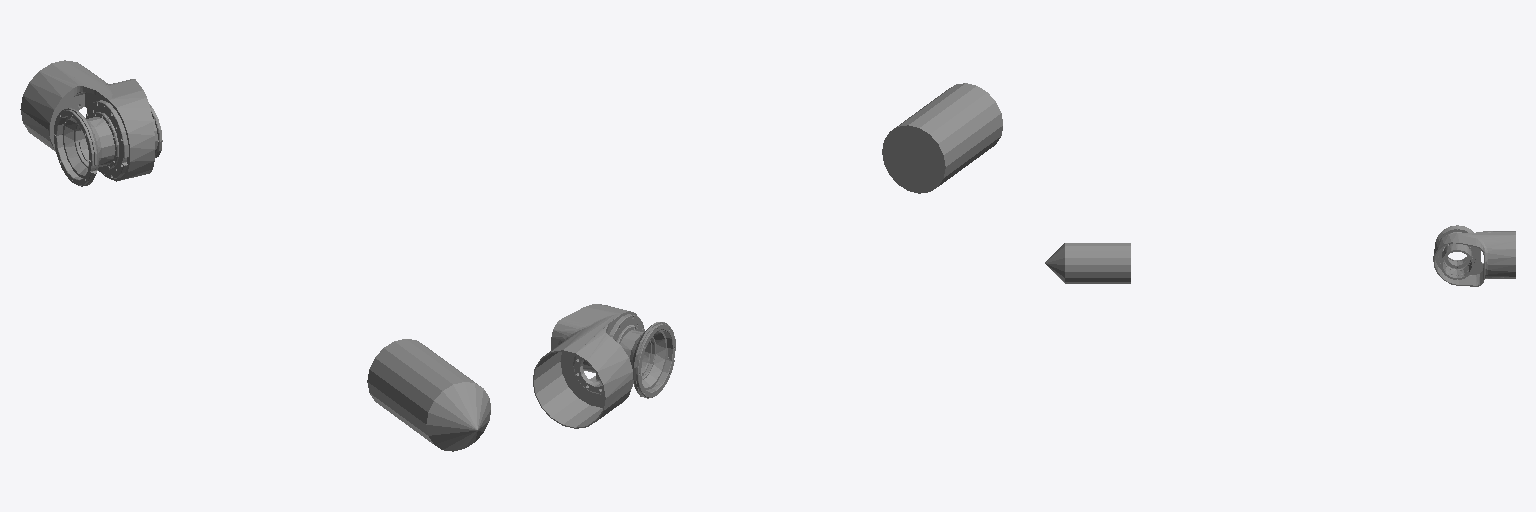
URDF robot description (repair):
<?xml version="1.0" ?>
<!-- =================================================================================== -->
<!-- |    This document was autogenerated by xacro from repair_single_arm.urdf.xacro   | -->
<!-- |    EDITING THIS FILE BY HAND IS NOT RECOMMENDED                                 | -->
<!-- =================================================================================== -->
<robot name="repair">
  <!-- color -->
  <material name="darkblue">
    <color rgba="0.0 0.3 0.9 1"/>
  </material>
  <material name="dark">
    <color rgba="0.6 0.6 0.6 1"/>
  </material>
  <link name="world"/>
  <link name="base_link">
</link>
  <joint name="base_joint" type="fixed">
    <origin rpy="0 0 0" xyz="0 0 0.5"/>
    <parent link="world"/>
    <child link="base_link"/>
  </joint>
  <link name="r_arm_mount_frame">
</link>
  <joint name="r_arm_mount_joint" type="fixed">
    <origin rpy="1.57079632679 3.14159265359 0" xyz="0 -0.2 0"/>
    <parent link="base_link"/>
    <child link="r_arm_mount_frame"/>
  </joint>
  <joint name="arm_1_joint_1" type="revolute">
    <origin rpy="0 0 0" xyz="0 0 0"/>
    <parent link="r_arm_mount_frame"/>
    <child link="arm_1_link_1"/>
    <axis xyz="0 0 1"/>
    <limit effort="200.0" lower="-2.6179938779916667" upper="2.6179938779916667" velocity="10.0"/>
  </joint>
  <joint name="arm_1_joint_2" type="revolute">
    <origin rpy="0 -1.57079632679 3.14159265359" xyz="0.007 0 0"/>
    <parent link="arm_1_link_1"/>
    <child link="arm_1_link_2"/>
    <axis xyz="0 0 1"/>
    <limit effort="200.0" lower="-1.570796326795" upper="1.570796326795" velocity="10.0"/>
  </joint>
  <joint name="arm_1_joint_3" type="revolute">
    <origin rpy="0 -1.57079632679 3.14159265359" xyz="0 0 0"/>
    <parent link="arm_1_link_2"/>
    <child link="arm_1_link_3"/>
    <axis xyz="0 0 1"/>
    <limit effort="200.0" lower="-2.6179938779916667" upper="2.6179938779916667" velocity="10.0"/>
  </joint>
  <joint name="arm_1_joint_4" type="revolute">
    <origin rpy="0 -1.57079632679 3.14159265359" xyz="0 0.0225 0.36014999999999997"/>
    <parent link="arm_1_link_3"/>
    <child link="arm_1_link_4"/>
    <axis xyz="0 0 1"/>
    <limit effort="200.0" lower="-2.6179938779916667" upper="0.8726646259972222" velocity="10.0"/>
  </joint>
  <joint name="arm_1_joint_5" type="revolute">
    <origin rpy="0 -1.57079632679 3.14159265359" xyz="0 0 0"/>
    <parent link="arm_1_link_4"/>
    <child link="arm_1_link_5"/>
    <axis xyz="0 0 1"/>
    <limit effort="200.0" lower="-2.6179938779916667" upper="2.6179938779916667" velocity="10.0"/>
  </joint>
  <joint name="arm_1_joint_6" type="revolute">
    <origin rpy="0 -1.57079632679 3.14159265359" xyz="0 0 0.321"/>
    <parent link="arm_1_link_5"/>
    <child link="arm_1_link_6"/>
    <axis xyz="0 0 1"/>
    <limit effort="200.0" lower="-2.6179938779916667" upper="2.6179938779916667" velocity="10.0"/>
  </joint>
  <joint name="arm_1_joint_7" type="revolute">
    <origin rpy="0 -1.57079632679 3.14159265359" xyz="0.18 0 0"/>
    <parent link="arm_1_link_6"/>
    <child link="arm_1_link_7"/>
    <axis xyz="0 0 1"/>
    <limit effort="200.0" lower="-2.6179938779916667" upper="2.6179938779916667" velocity="10.0"/>
  </joint>
  <joint name="arm_1_tcp_joint" type="fixed">
    <origin rpy="0 0 0" xyz="0 0 0"/>
    <parent link="arm_1_link_7"/>
    <child link="arm_1_tcp"/>
  </joint>
  <link name="arm_1_link_1">
    <inertial>
      <mass value="0.1"/>
      <inertia ixx="0.0001" ixy="0" ixz="0" iyy="0.0001" iyz="0" izz="0.0001"/>
      <origin xyz="0 0 0"/>
    </inertial>
    <collision name="arm_1_link_1_collision">
      <geometry>
        <mesh filename="package://repair_urdf/meshes/link_1.stl" scale="0.001 0.001 0.001"/>
      </geometry>
      <material name="dark"/>
    </collision>
    <visual name="arm_1_link_1_visual">
      <geometry>
        <mesh filename="package://repair_urdf/meshes/link_1.stl" scale="0.001 0.001 0.001"/>
      </geometry>
      <material name="dark"/>
    </visual>
  </link>
  <link name="arm_1_link_2">
    <inertial>
      <mass value="0.1"/>
      <inertia ixx="0.0001" ixy="0" ixz="0" iyy="0.0001" iyz="0" izz="0.0001"/>
      <origin xyz="0 0 0"/>
    </inertial>
    <collision name="arm_1_link_2_collision">
      <geometry>
        <mesh filename="package://repair_urdf/meshes/link_2.stl" scale="0.001 0.001 0.001"/>
      </geometry>
      <material name="dark"/>
    </collision>
    <visual name="arm_1_link_2_visual">
      <geometry>
        <mesh filename="package://repair_urdf/meshes/link_2.stl" scale="0.001 0.001 0.001"/>
      </geometry>
      <material name="dark"/>
    </visual>
  </link>
  <link name="arm_1_link_3">
    <inertial>
      <mass value="0.1"/>
      <inertia ixx="0.0001" ixy="0" ixz="0" iyy="0.0001" iyz="0" izz="0.0001"/>
      <origin xyz="0 0 0"/>
    </inertial>
    <collision name="arm_1_link_3_collision">
      <geometry>
        <mesh filename="package://repair_urdf/meshes/link_3.stl" scale="0.001 0.001 0.001"/>
      </geometry>
      <material name="dark"/>
    </collision>
    <visual name="arm_1_link_3_visual">
      <geometry>
        <mesh filename="package://repair_urdf/meshes/link_3.stl" scale="0.001 0.001 0.001"/>
      </geometry>
      <material name="dark"/>
    </visual>
  </link>
  <link name="arm_1_link_4">
    <inertial>
      <mass value="0.1"/>
      <inertia ixx="0.0001" ixy="0" ixz="0" iyy="0.0001" iyz="0" izz="0.0001"/>
      <origin xyz="0 0 0"/>
    </inertial>
    <collision name="arm_1_link_4_collision">
      <geometry>
        <mesh filename="package://repair_urdf/meshes/link_4.stl" scale="0.001 0.001 0.001"/>
      </geometry>
      <material name="dark"/>
    </collision>
    <visual name="arm_1_link_4_visual">
      <geometry>
        <mesh filename="package://repair_urdf/meshes/link_4.stl" scale="0.001 0.001 0.001"/>
      </geometry>
      <material name="dark"/>
    </visual>
  </link>
  <link name="arm_1_link_5">
    <inertial>
      <mass value="0.1"/>
      <inertia ixx="0.0001" ixy="0" ixz="0" iyy="0.0001" iyz="0" izz="0.0001"/>
      <origin xyz="0 0 0"/>
    </inertial>
    <collision name="arm_1_link_5_collision">
      <geometry>
        <mesh filename="package://repair_urdf/meshes/link_5.stl" scale="0.001 0.001 0.001"/>
      </geometry>
      <material name="dark"/>
    </collision>
    <visual name="arm_1_link_5_visual">
      <geometry>
        <mesh filename="package://repair_urdf/meshes/link_5.stl" scale="0.001 0.001 0.001"/>
      </geometry>
      <material name="dark"/>
    </visual>
  </link>
  <link name="arm_1_link_6">
    <inertial>
      <mass value="0.1"/>
      <inertia ixx="0.0001" ixy="0" ixz="0" iyy="0.0001" iyz="0" izz="0.0001"/>
      <origin xyz="0 0 0"/>
    </inertial>
    <collision name="arm_1_link_6_collision">
      <geometry>
        <mesh filename="package://repair_urdf/meshes/link_6.stl" scale="0.001 0.001 0.001"/>
      </geometry>
      <material name="dark"/>
    </collision>
    <visual name="arm_1_link_6_visual">
      <geometry>
        <mesh filename="package://repair_urdf/meshes/link_6.stl" scale="0.001 0.001 0.001"/>
      </geometry>
      <material name="dark"/>
    </visual>
  </link>
  <link name="arm_1_link_7">
    <inertial>
      <mass value="0.1"/>
      <inertia ixx="0.0001" ixy="0" ixz="0" iyy="0.0001" iyz="0" izz="0.0001"/>
      <origin xyz="0 0 0"/>
    </inertial>
    <collision name="arm_1_link_7_collision">
      <geometry>
        <mesh filename="package://repair_urdf/meshes/link_7.stl" scale="0.001 0.001 0.001"/>
      </geometry>
      <material name="dark"/>
    </collision>
    <visual name="arm_1_link_7_visual">
      <geometry>
        <mesh filename="package://repair_urdf/meshes/link_7.stl" scale="0.001 0.001 0.001"/>
      </geometry>
      <material name="dark"/>
    </visual>
  </link>
  <link name="arm_1_tcp"/>
</robot>

--- What the picture shows (computed from the rendered views, not written in the file) ---
The picture shows the robot from 3 angles, left to right: view 1: azimuth 30°, elevation 25°; view 2: azimuth 150°, elevation 25°; view 3: azimuth 270°, elevation 25°; orthographic projection.
Robot: repair — 11 links, 10 joints (7 revolute, 3 fixed); root link world; default pose: all joints at 0.
Visible links, largest first — view 1: arm_1_link_1, arm_1_link_7; view 2: arm_1_link_1, arm_1_link_7; view 3: arm_1_link_1, arm_1_link_7.
Link boxes in pixels (bbox=[...]): arm_1_link_1: bbox=[20, 60, 162, 186]; arm_1_link_7: bbox=[367, 339, 490, 451]; arm_1_link_1: bbox=[533, 304, 675, 428]; arm_1_link_7: bbox=[882, 83, 1002, 193]; arm_1_link_1: bbox=[1433, 225, 1515, 286]; arm_1_link_7: bbox=[1045, 243, 1130, 283].
Size in the robot's own frame: 0.1118 by 0.9826 by 0.1153 metres.
2 mesh visuals loaded from 7 distinct referenced files (2 binary STL); not drawn: 5 (reference not matched to a file when rendering).